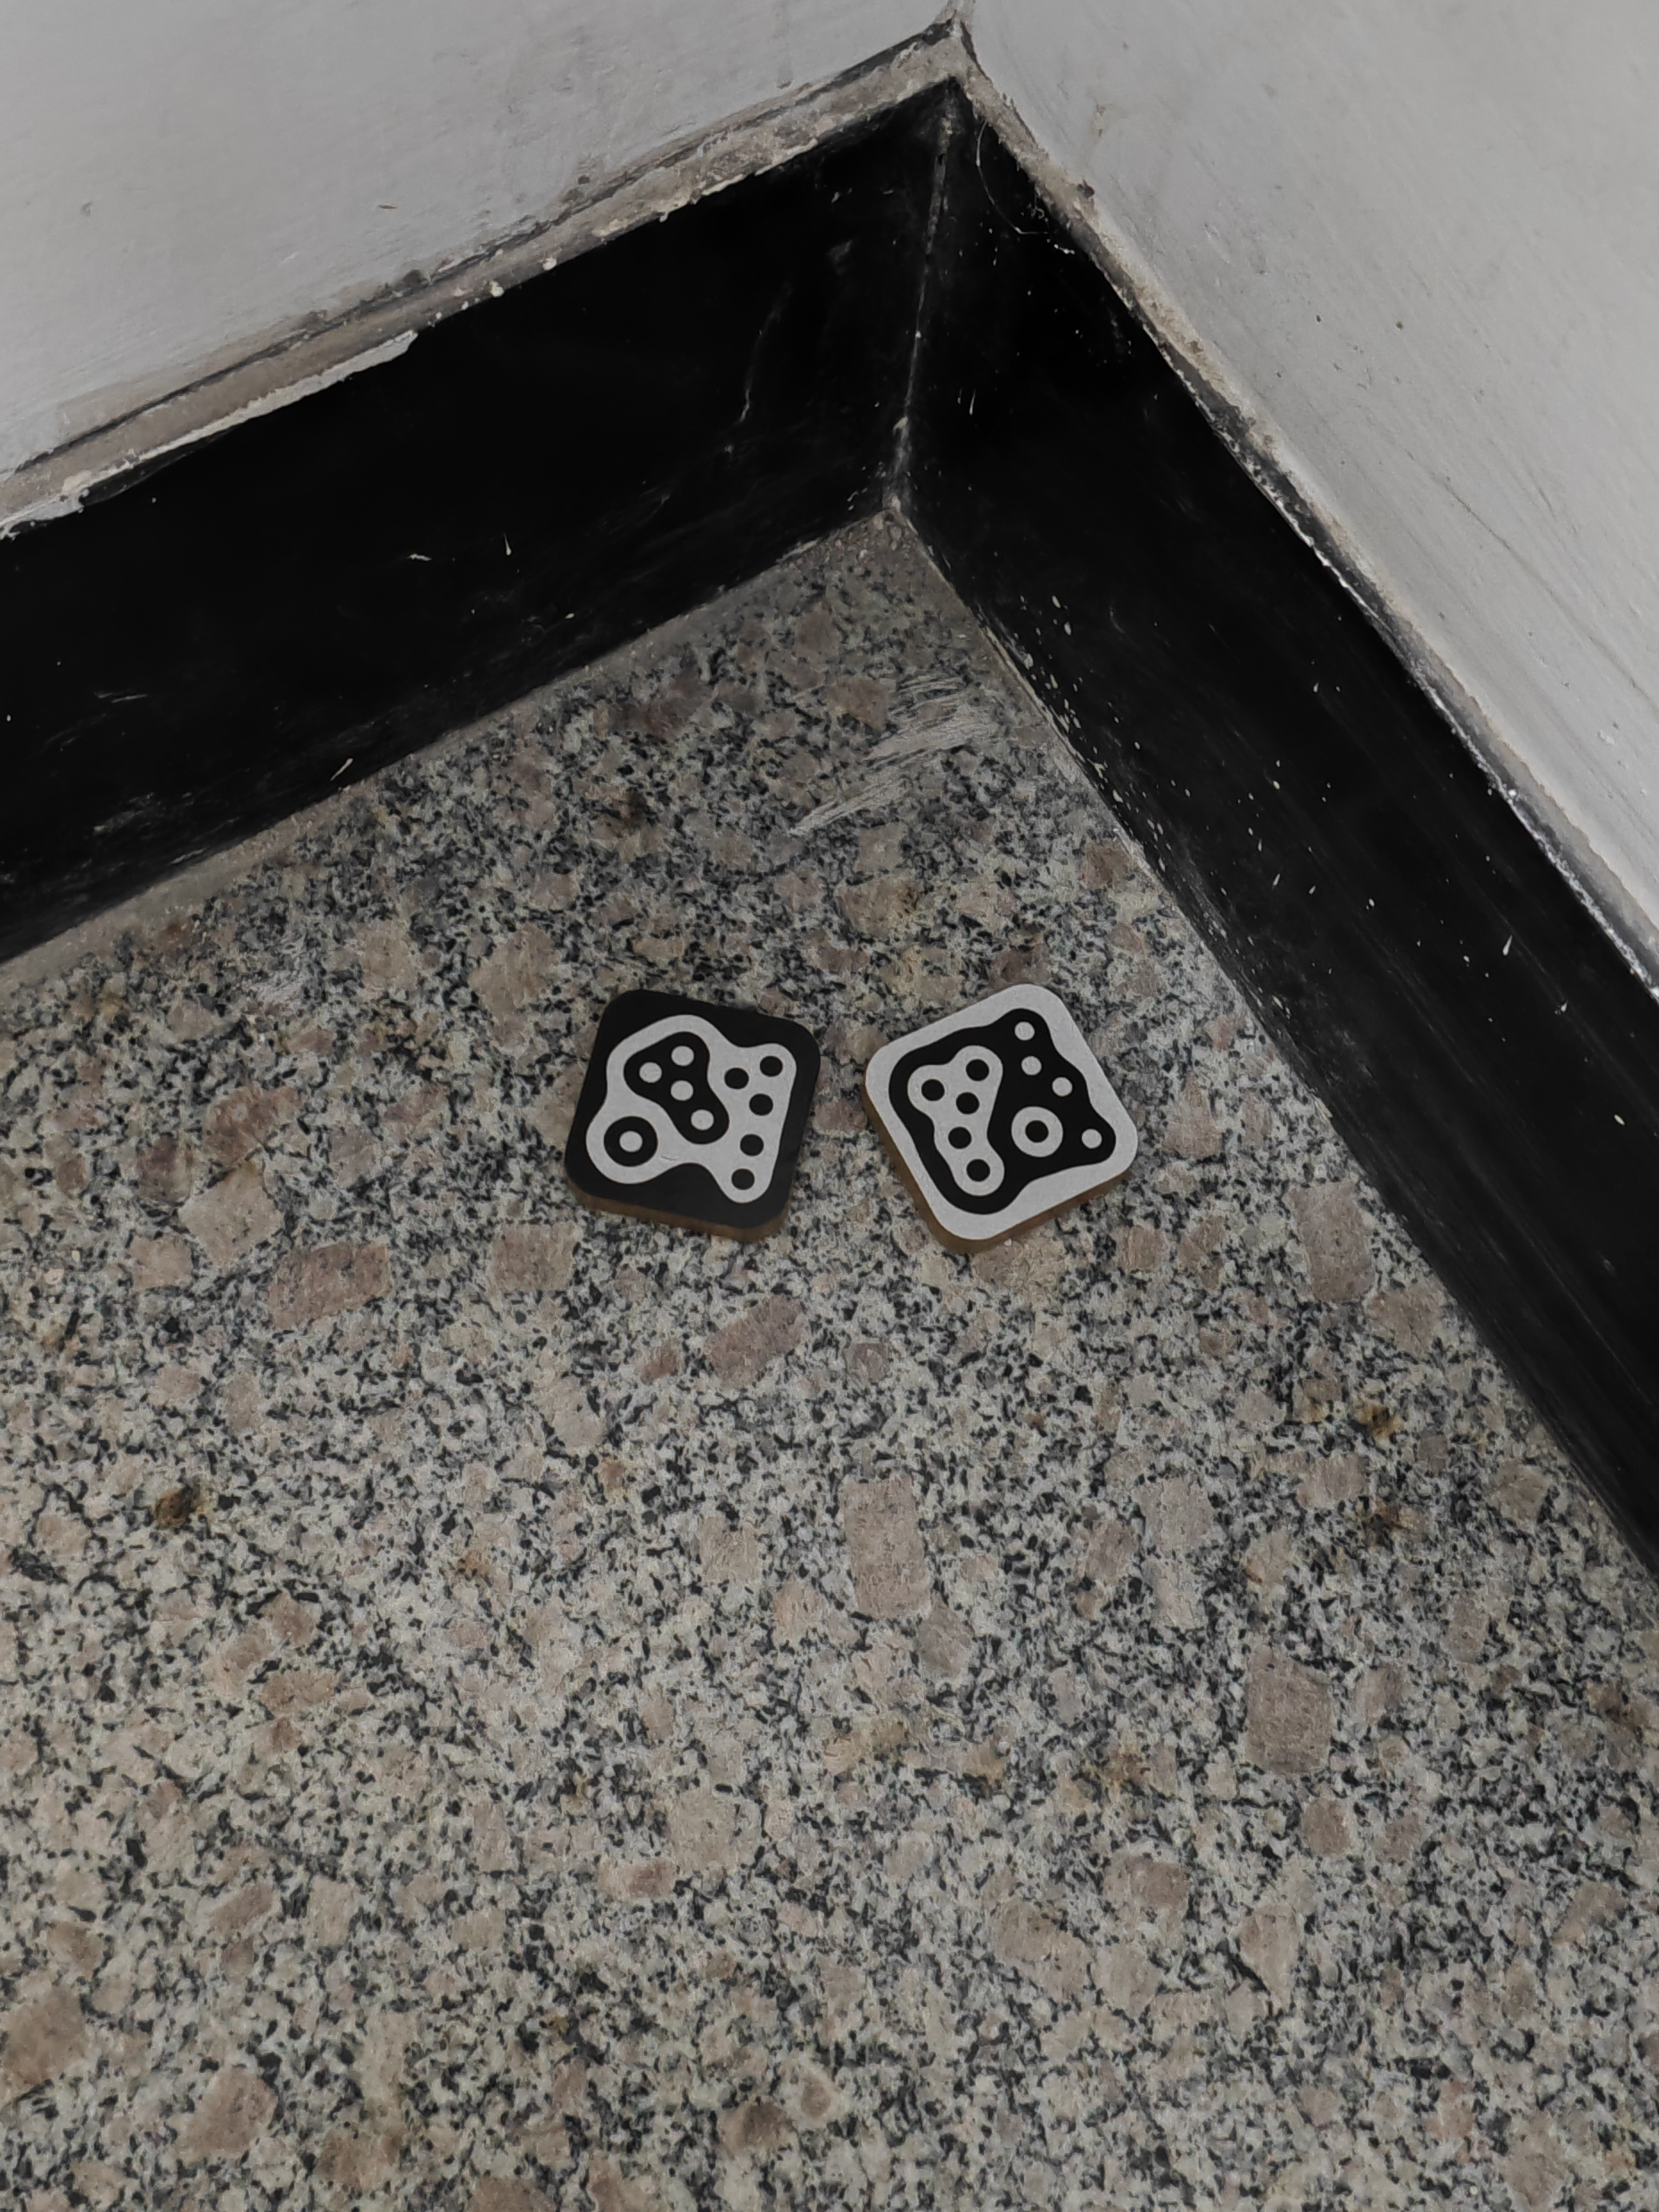mark1: (887, 1008, 1119, 1216)
mark2: (587, 1014, 795, 1204)
